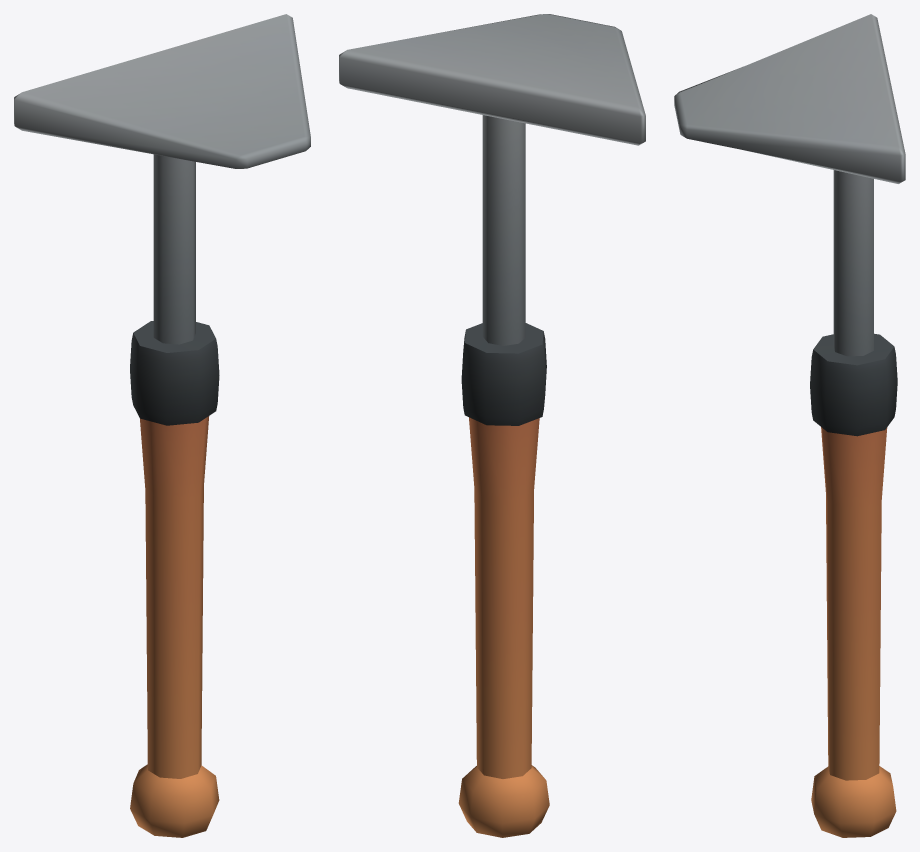
The model's file is Hoe.fbx.
3 views of the same model, side by side, from view 1: azimuth 30°, elevation 25°; view 2: azimuth 150°, elevation 25°; view 3: azimuth 270°, elevation 25° (orthographic). The views are drawn at different scales.
Parts seen in each view (by area): view 1: Hoe; view 2: Hoe; view 3: Hoe.
Boxes of the visible parts, left/top/right/bottom form: Hoe: left=14, top=14, right=310, bottom=837; Hoe: left=339, top=14, right=645, bottom=837; Hoe: left=674, top=14, right=905, bottom=837.
Bounding box in the file's own units: 38.06 × 26.66 × 94.71.
